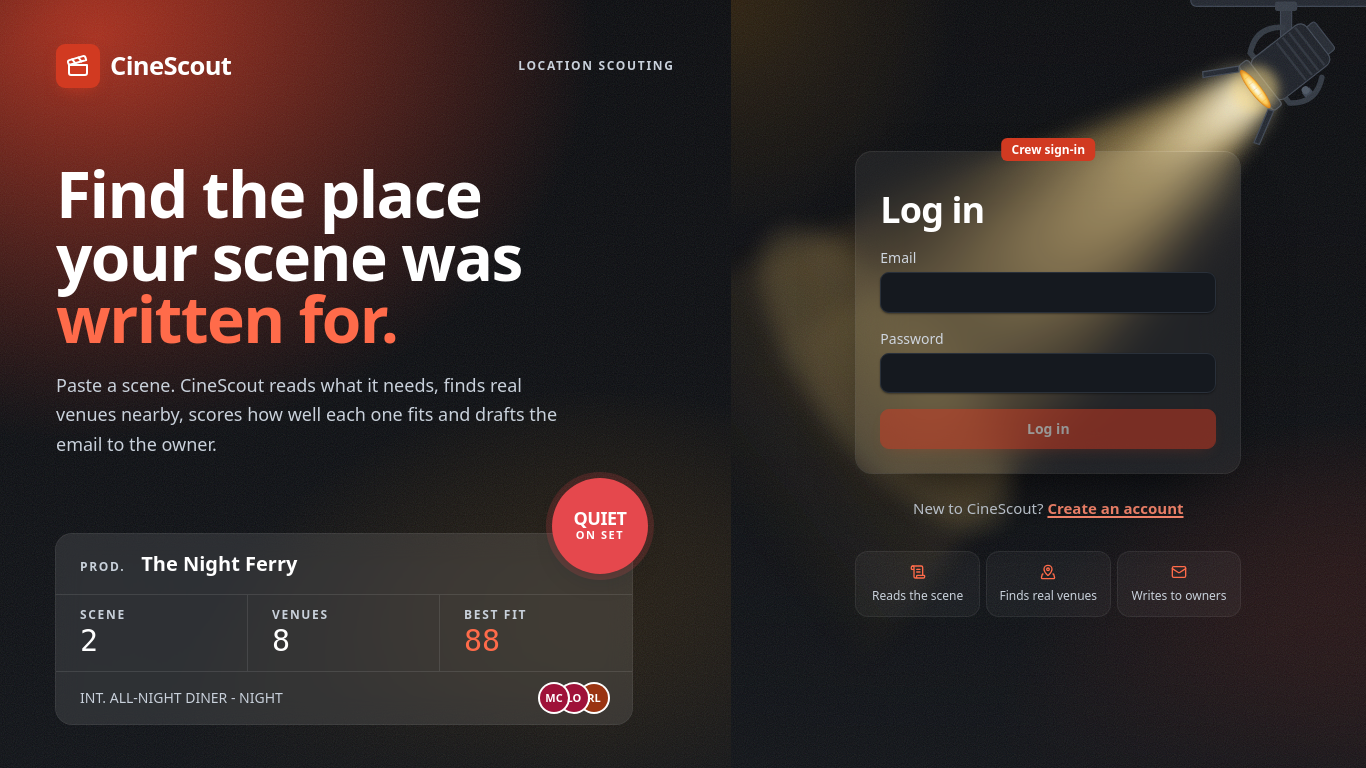
Scenario: the sun during the scene › has its own column in the light table of the logistics report
Type "ada@example.com" into the field labelled "Email" at (1048, 293), box x1=880 y1=272 x2=1216 y2=313
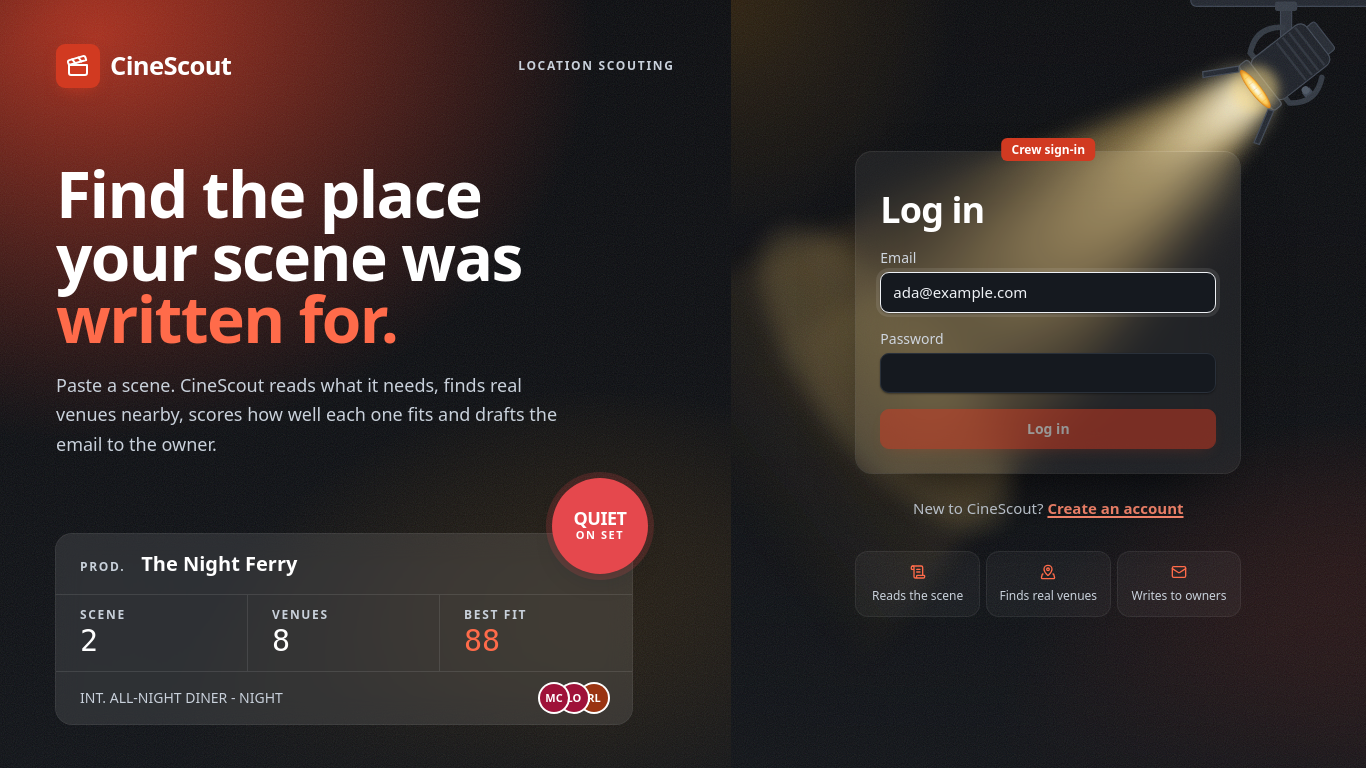
Type "a-long-password" into the password field labelled "Password" at (1048, 373), box x1=880 y1=353 x2=1216 y2=393
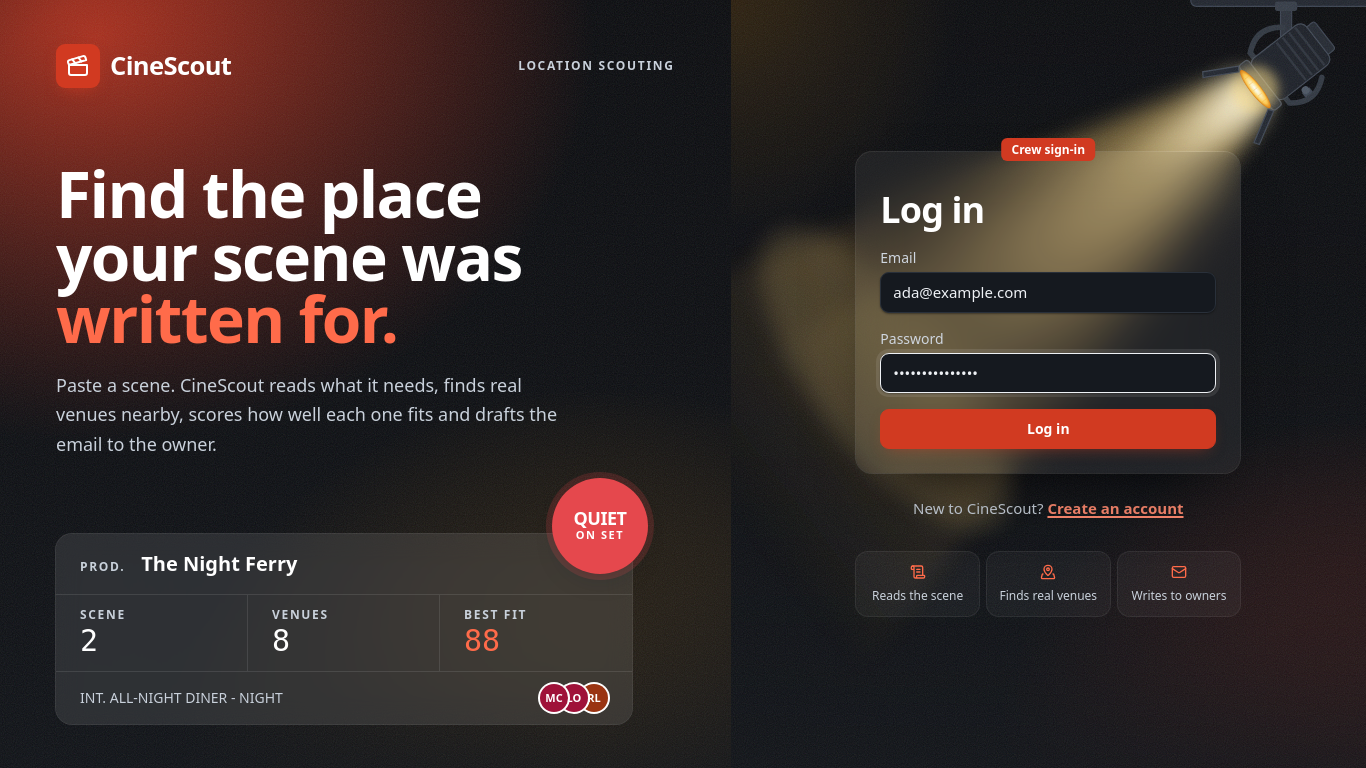
Click the button "Log in" at (1048, 429), box x1=880 y1=409 x2=1216 y2=449
(page scrolled)
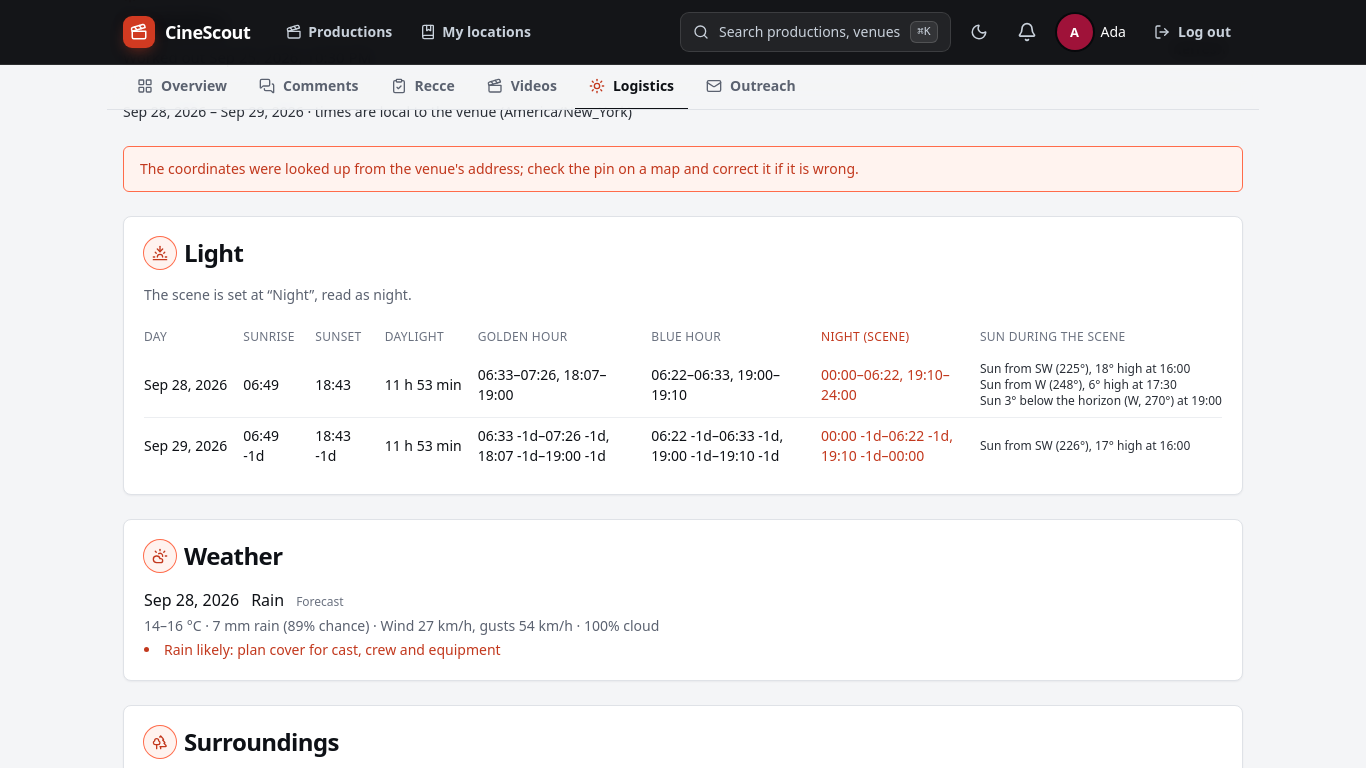
Now the column heading "Sun during the scene" is shown, box x1=980 y1=320 x2=1222 y2=352
Now the cell "Sun from SW (225°), 18° high at 16:00" is shown, box x1=980 y1=352 x2=1222 y2=417
